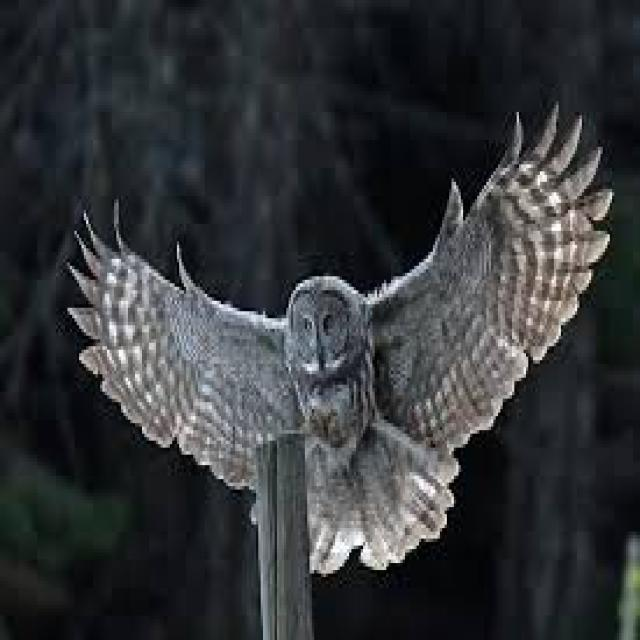Owl: (52, 98, 618, 581)
